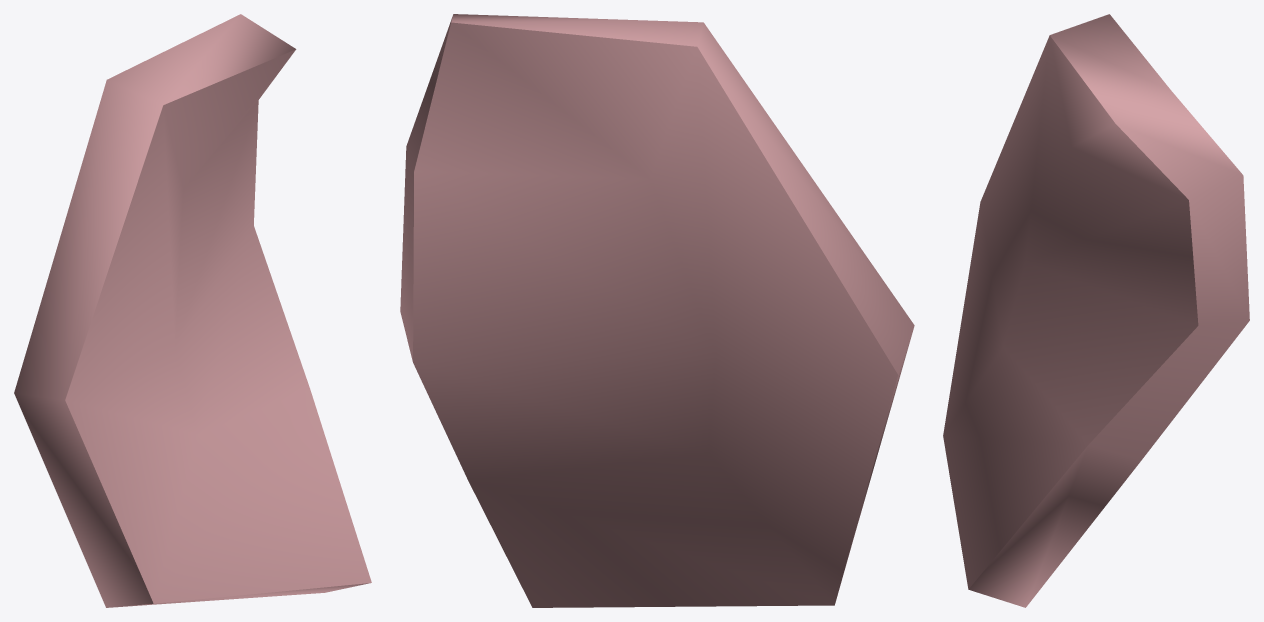
3 views of the same model, side by side, from view 1: azimuth 30°, elevation 25°; view 2: azimuth 150°, elevation 25°; view 3: azimuth 270°, elevation 25° (orthographic). The views are drawn at different scales.
Visible parts, largest first — view 1: ZA_ee88a70da64f7bb8; view 2: ZA_ee88a70da64f7bb8; view 3: ZA_ee88a70da64f7bb8.
Boxes of the visible parts, x1,y1,x2,y2 form: ZA_ee88a70da64f7bb8: (14, 14, 371, 607); ZA_ee88a70da64f7bb8: (400, 14, 914, 607); ZA_ee88a70da64f7bb8: (943, 14, 1249, 607).
Size of the model in its own units: 0.016 by 0.0252 by 0.0137.
